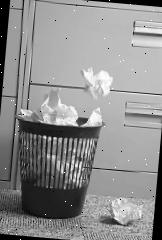paper: (19, 84, 82, 126), (78, 65, 114, 101), (106, 196, 148, 226), (80, 104, 104, 128)
